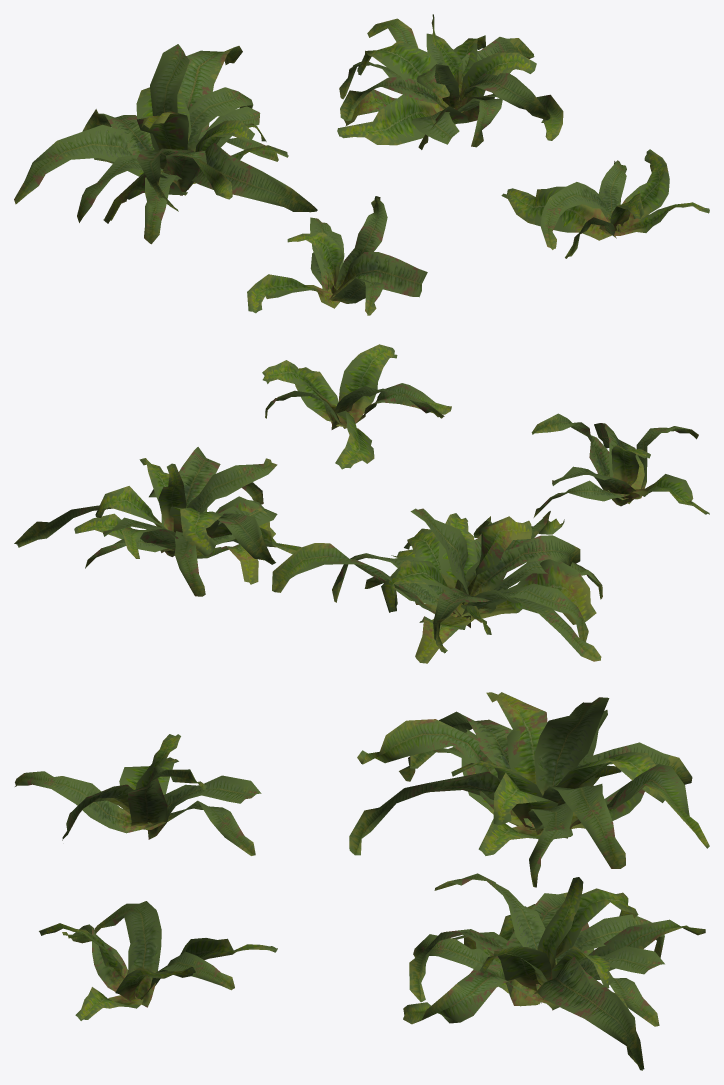
The model's file is fern_02_leve.gltf.
The picture shows the model from 3 angles, top to bottom: view 1: azimuth 30°, elevation 25°; view 2: azimuth 150°, elevation 25°; view 3: azimuth 270°, elevation 25°; orthographic projection. The views are drawn at different scales.
Visible parts, largest first — view 1: fern_02_b, fern_02_c, fern_02_d, fern_02_a; view 2: fern_02_b, fern_02_c, fern_02_d, fern_02_a; view 3: fern_02_b, fern_02_c, fern_02_a, fern_02_d.
Part boxes in pixels (x1,y1,x2,y2): fern_02_b: (14,44,317,244); fern_02_c: (337,14,563,149); fern_02_d: (501,149,709,258); fern_02_a: (247,196,427,315); fern_02_b: (272,508,602,663); fern_02_c: (14,447,301,596); fern_02_d: (262,344,451,469); fern_02_a: (531,413,709,517); fern_02_b: (349,692,709,887); fern_02_c: (403,873,705,1070); fern_02_a: (15,734,261,855); fern_02_d: (39,901,277,1020).
Bounding box in the file's own units: 1.97 × 0.4277 × 1.72.
1 material, 1 textured.
